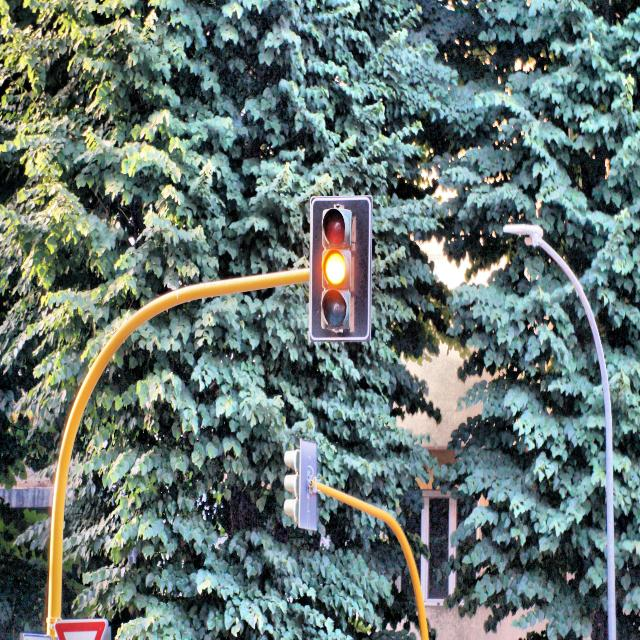yellow: (322, 212, 355, 341)
